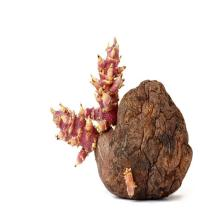Sprouted potato: (50, 28, 193, 200)
